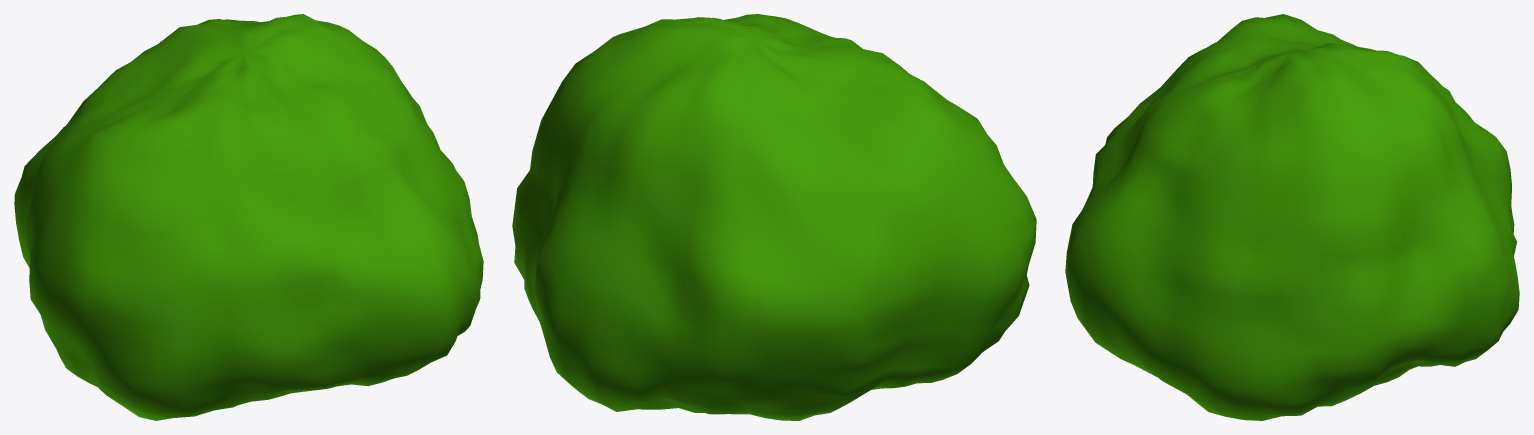
Rendered from Buisson.glb.
3 renders of one model, left to right at view 1: azimuth 30°, elevation 25°; view 2: azimuth 150°, elevation 25°; view 3: azimuth 270°, elevation 25°, orthographic. The views are drawn at different scales.
Parts seen in each view (by area): view 1: Arbustes; view 2: Arbustes; view 3: Arbustes.
Boxes of the visible parts, left/top/right/bottom form: Arbustes: left=14, top=14, right=483, bottom=420; Arbustes: left=512, top=14, right=1036, bottom=420; Arbustes: left=1065, top=14, right=1519, bottom=420.
Size of the model in its own units: 0.892 by 0.635 by 0.8424.
